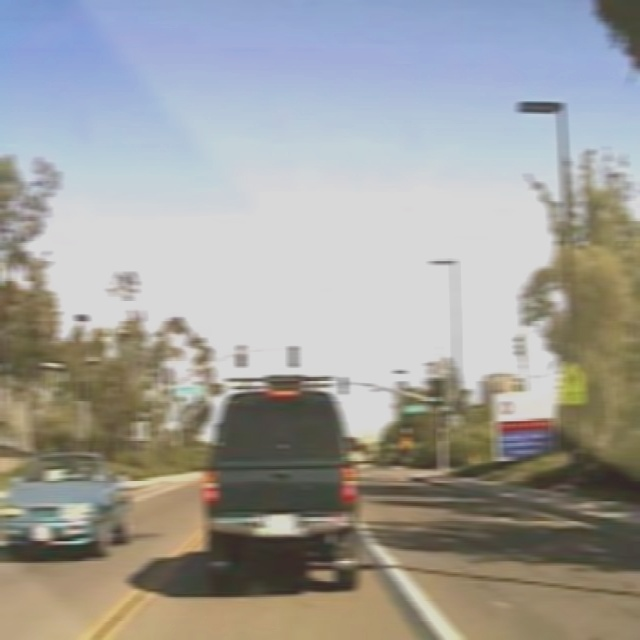school: (560, 360, 584, 392)
